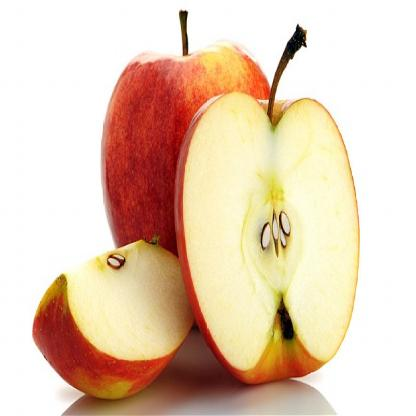apple: (101, 38, 281, 336)
